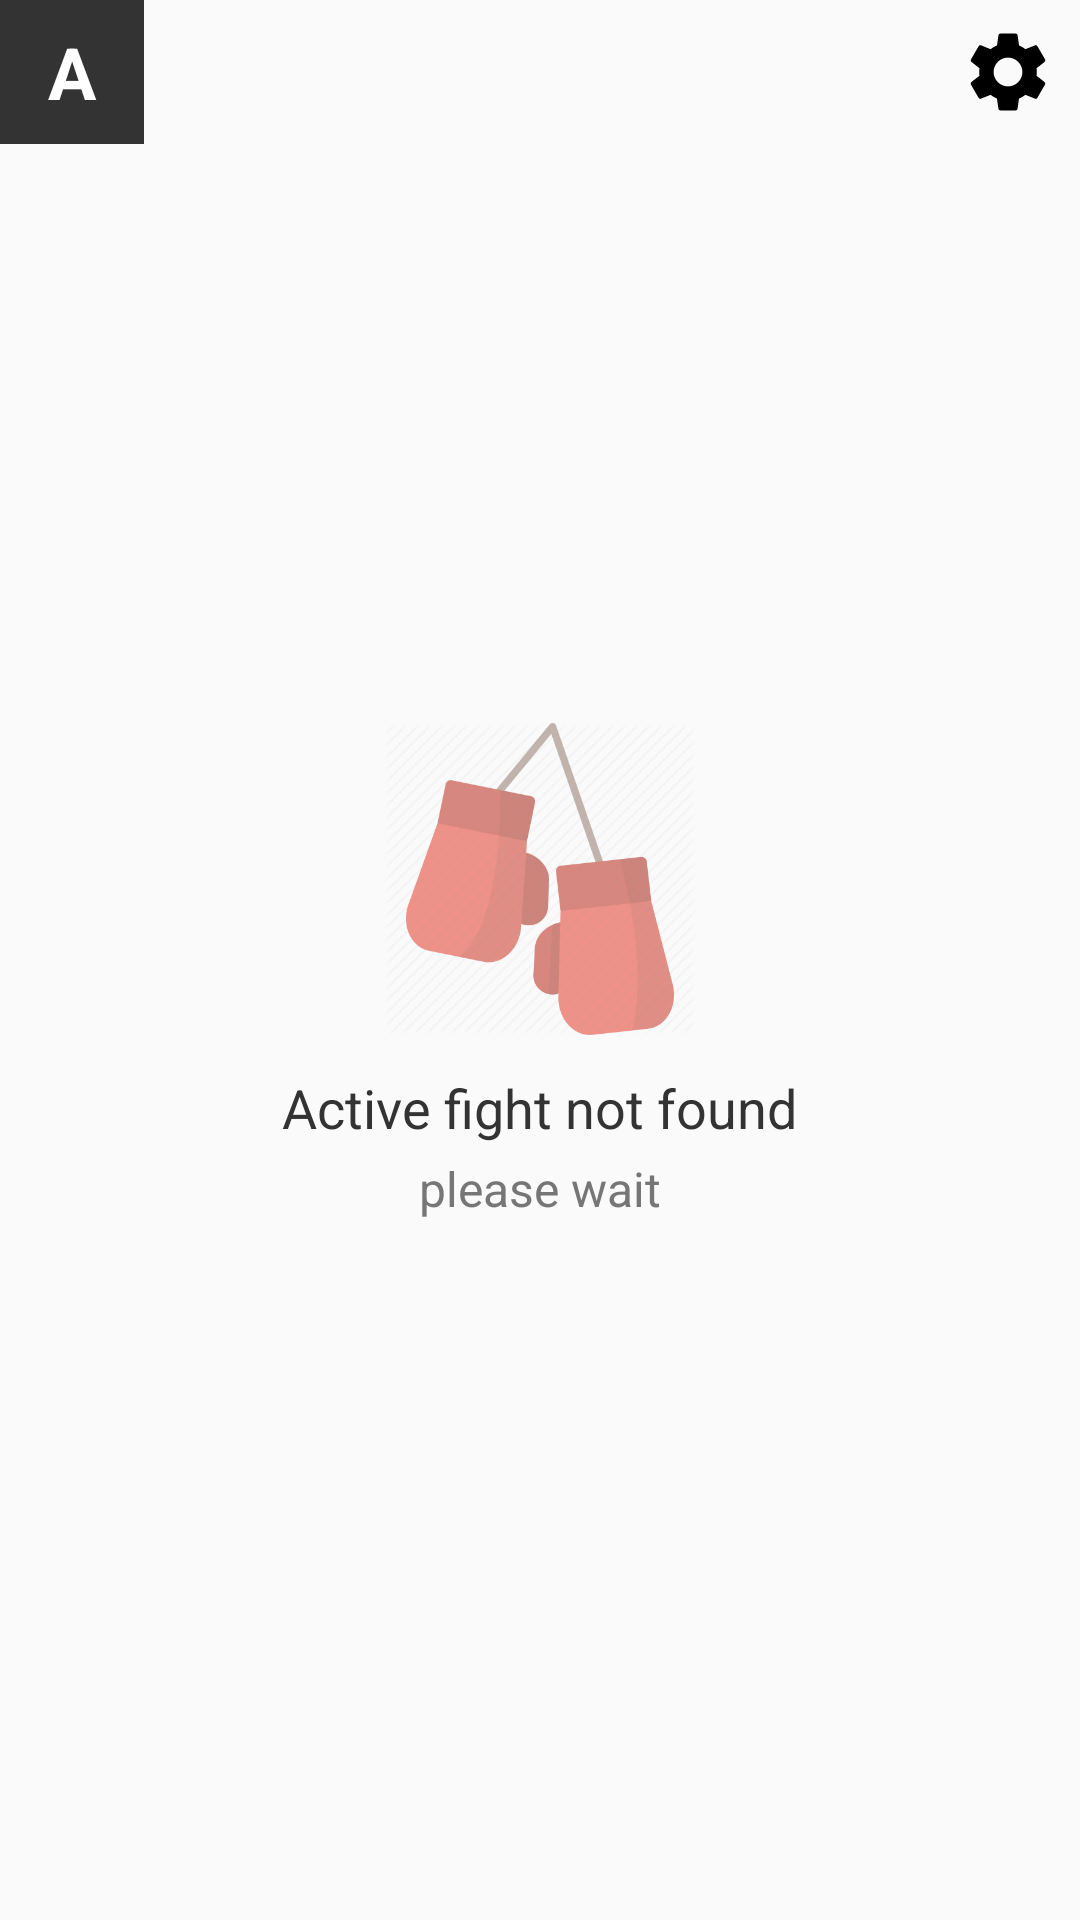

Screen size 1080×1920. Icon name, then its center in pixels as point (x, y):
boxing gloves: point (540, 879)
settings: point (1008, 72)
